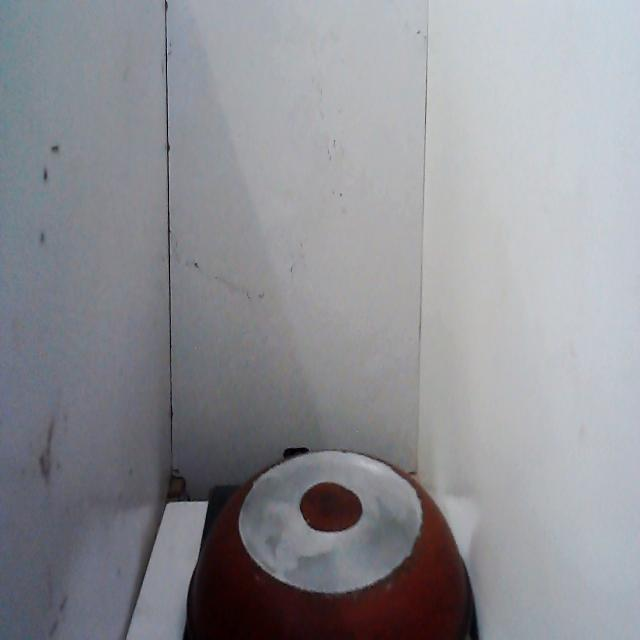metal: (180, 435, 483, 640)
